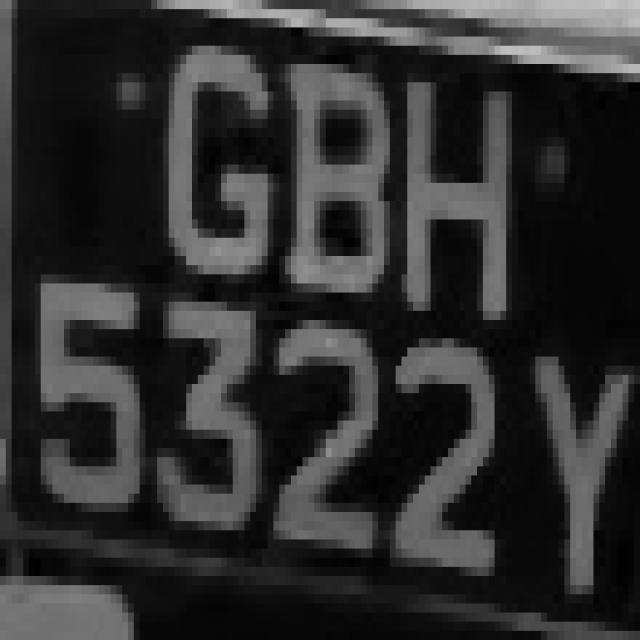2: (390, 284, 518, 612), (250, 302, 384, 603)
3: (140, 274, 256, 549)
5: (23, 228, 157, 558)
B: (273, 18, 390, 320)
G: (157, 36, 274, 302)
H: (384, 46, 518, 338)
Y: (523, 320, 640, 621)
